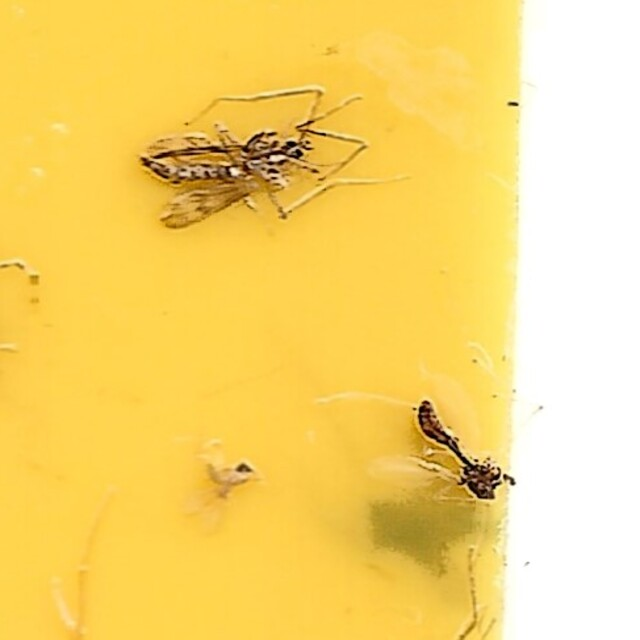Nematocera: (131, 122, 329, 237), (411, 396, 509, 518)
